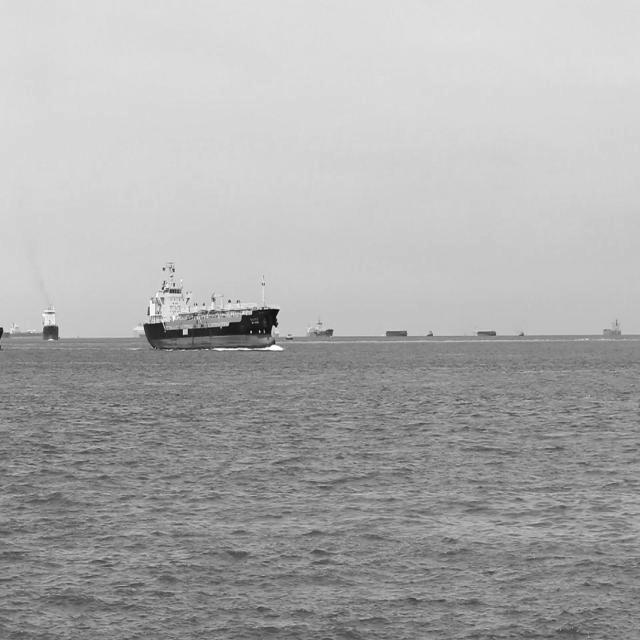ship: (141, 256, 281, 354), (0, 320, 42, 340), (43, 304, 61, 343), (305, 316, 333, 338), (601, 313, 625, 338)
